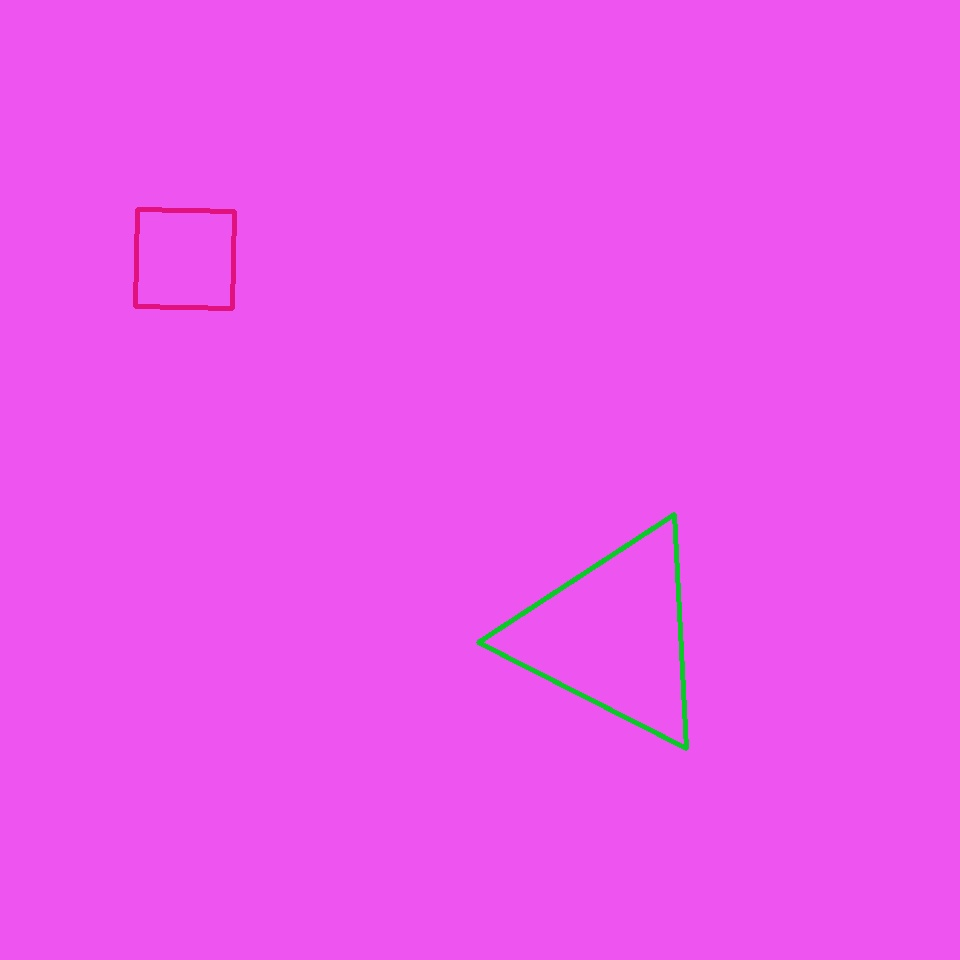circle: (509, 518, 717, 752)
square: (136, 209, 234, 308)
